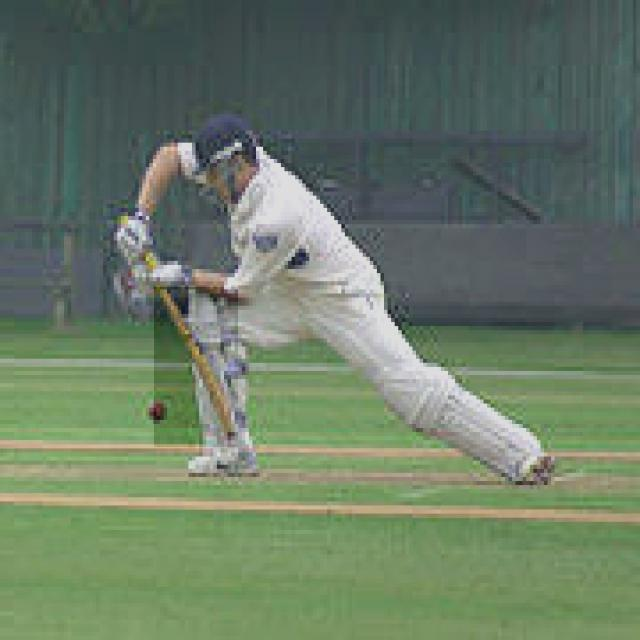bat: (155, 280, 248, 431)
